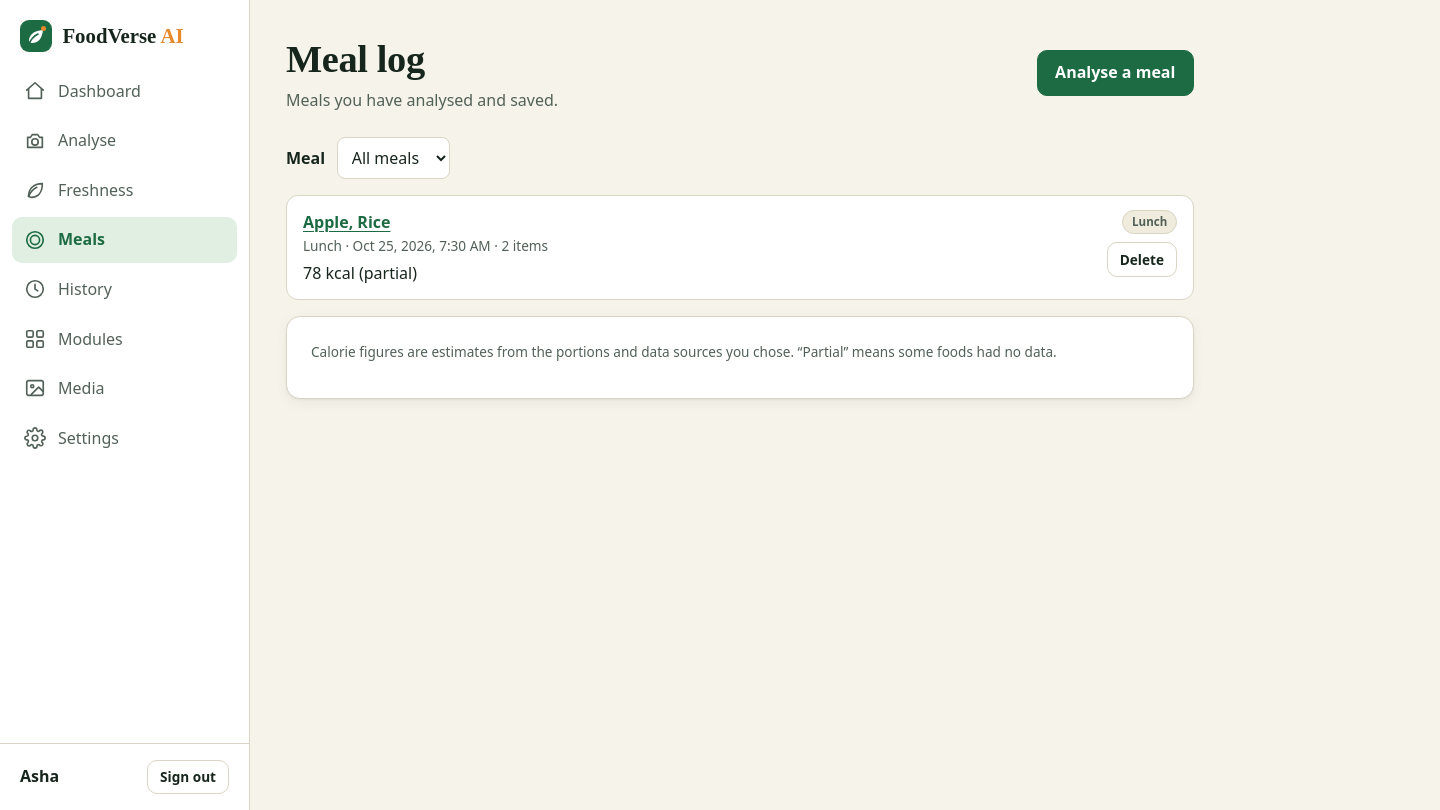
meal log › surfaces a failed delete without removing the row
The width and height of the screenshot is (1440, 810).
Step 1. Click the button with aria-label "Delete Apple, Rice" → x=1142, y=260, box [1107, 242, 1177, 277]
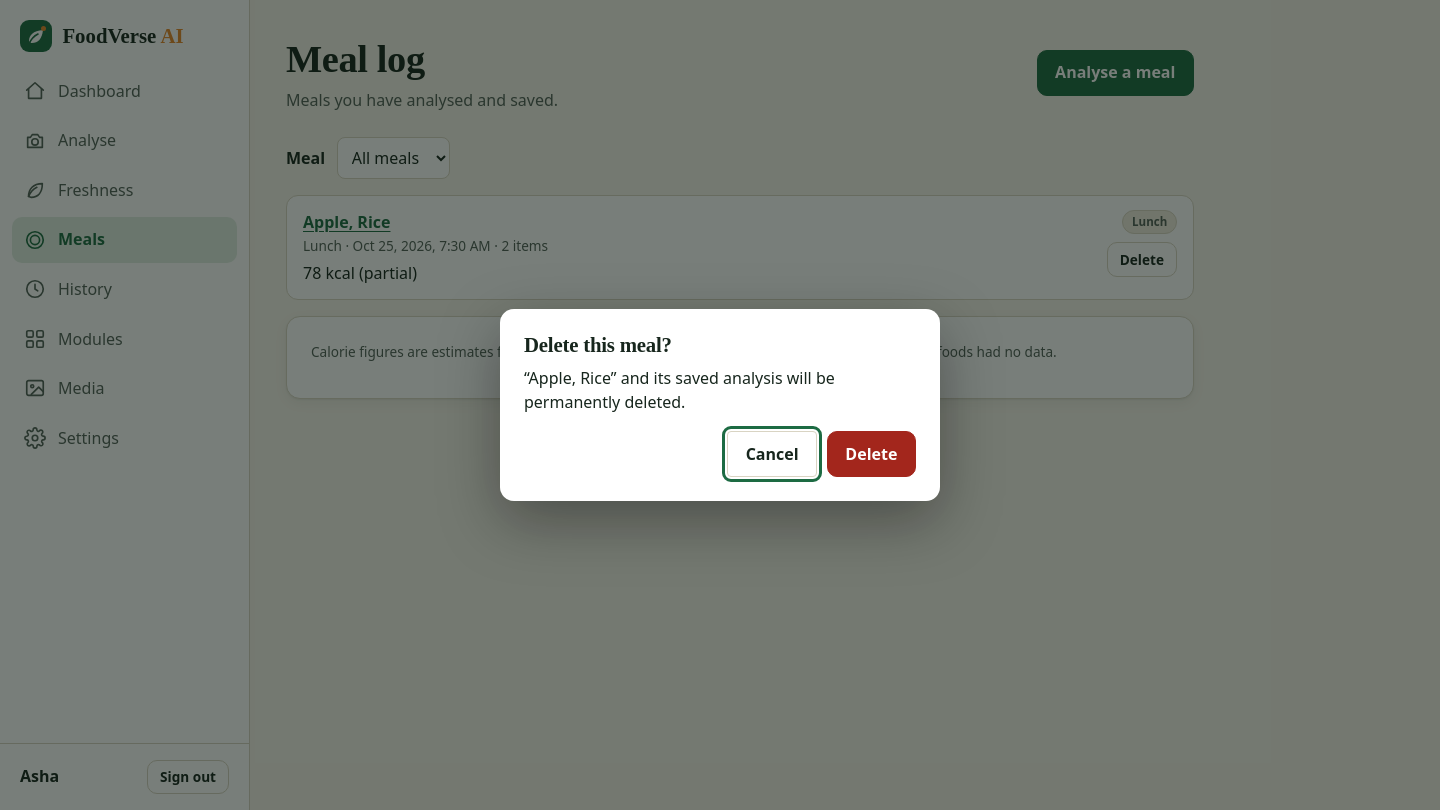
Step 2. Click the button "Delete" → x=871, y=454, box [827, 431, 916, 477]
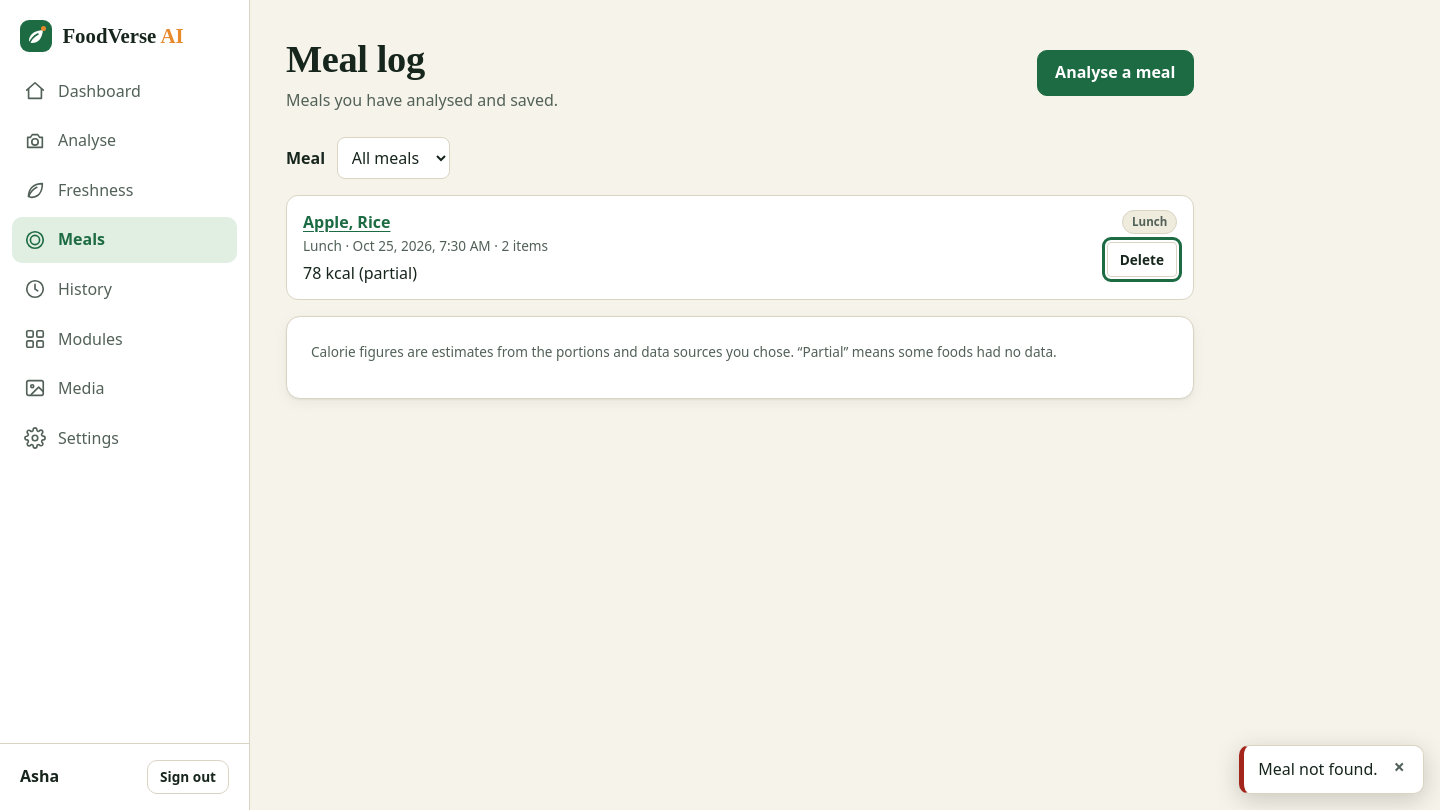
Check: the text "Meal not found." is shown, box [1258, 757, 1378, 782]
